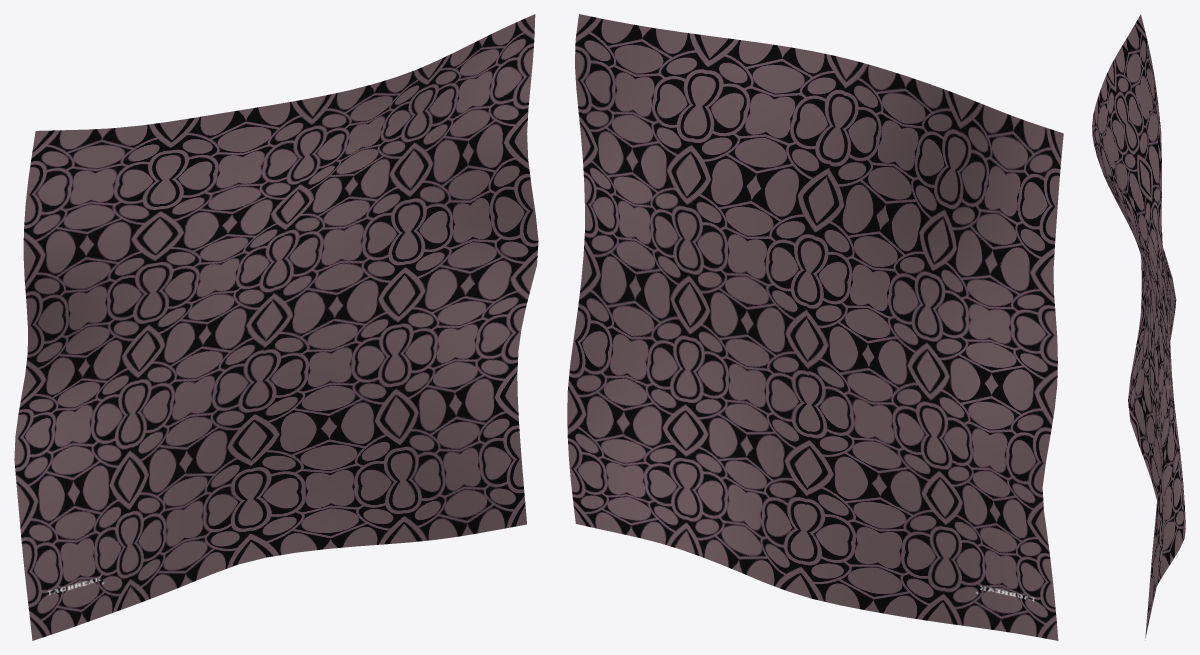
The model's file is mau.glb.
3 renders of one model, left to right at view 1: azimuth 30°, elevation 25°; view 2: azimuth 150°, elevation 25°; view 3: azimuth 270°, elevation 25°, orthographic. The views are drawn at different scales.
Visible parts, largest first — view 1: Plane; view 2: Plane; view 3: Plane.
Part boxes in pixels (x1,y1,x2,y2): Plane: (14, 14, 538, 640); Plane: (567, 14, 1063, 640); Plane: (1092, 14, 1185, 640).
Size of the model in its own units: 2.02 by 2 by 0.3968.
Materials: 1 (1 with a texture image).
